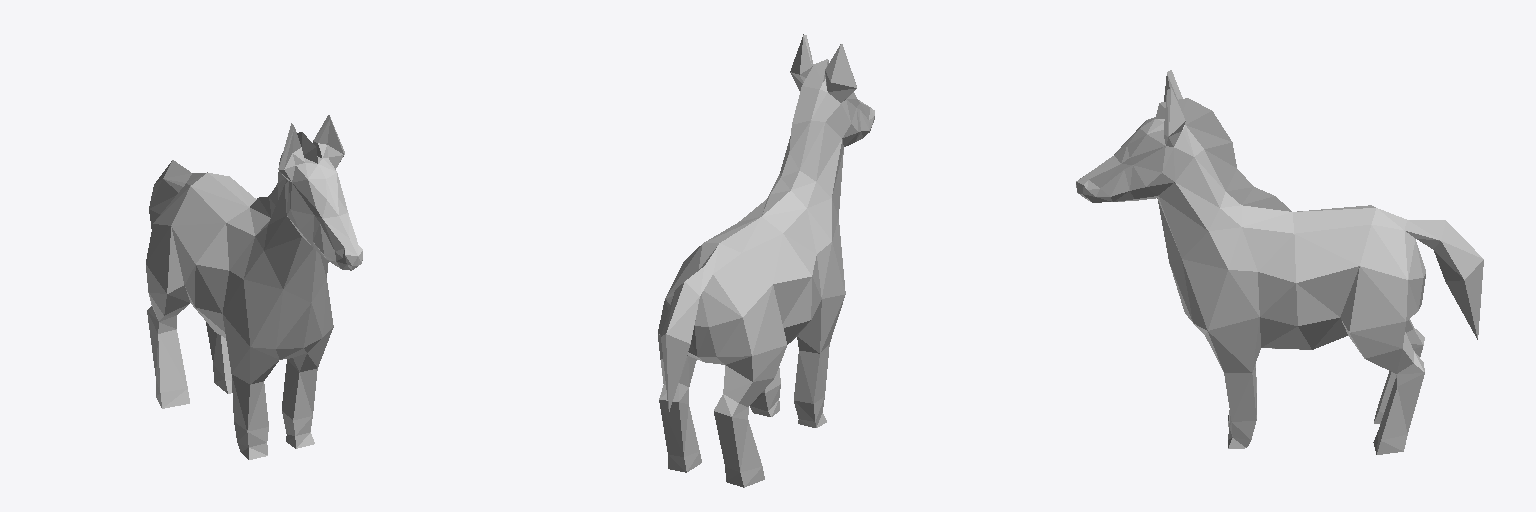
The model's file is horse.obj.
The picture shows the model from 3 angles: view 1: azimuth 30°, elevation 25°; view 2: azimuth 150°, elevation 25°; view 3: azimuth 270°, elevation 25°; orthographic projection.
Parts seen in each view (by area): view 1: horse:Skin_ZSphere_1_horse:pTorus1_horse:polySurface2_horse:pol; view 2: horse:Skin_ZSphere_1_horse:pTorus1_horse:polySurface2_horse:pol; view 3: horse:Skin_ZSphere_1_horse:pTorus1_horse:polySurface2_horse:pol.
Boxes of the visible parts, <box> form: horse:Skin_ZSphere_1_horse:pTorus1_horse:polySurface2_horse:pol: <box>146,115,362,459</box>; horse:Skin_ZSphere_1_horse:pTorus1_horse:polySurface2_horse:pol: <box>658,34,874,487</box>; horse:Skin_ZSphere_1_horse:pTorus1_horse:polySurface2_horse:pol: <box>1076,70,1483,454</box>.
Size of the model in its own units: 0.8026 by 2.51 by 2.62.